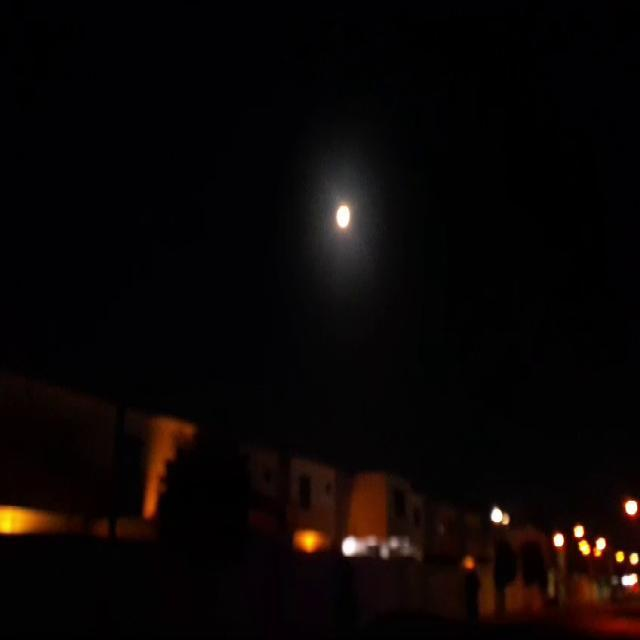moon: (328, 198, 351, 232)
